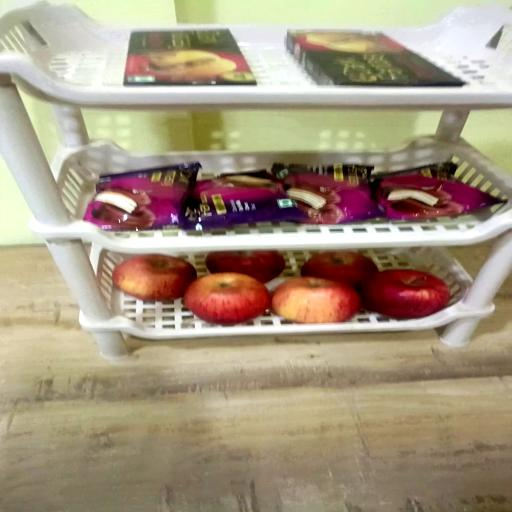Apple: (185, 274, 272, 326), (360, 270, 448, 320), (272, 277, 362, 324), (112, 256, 195, 302)
Choco Fills: (288, 30, 464, 87), (126, 28, 259, 86)
Choco Pie: (82, 164, 199, 233), (372, 164, 504, 222), (180, 170, 305, 230), (276, 165, 384, 227)
